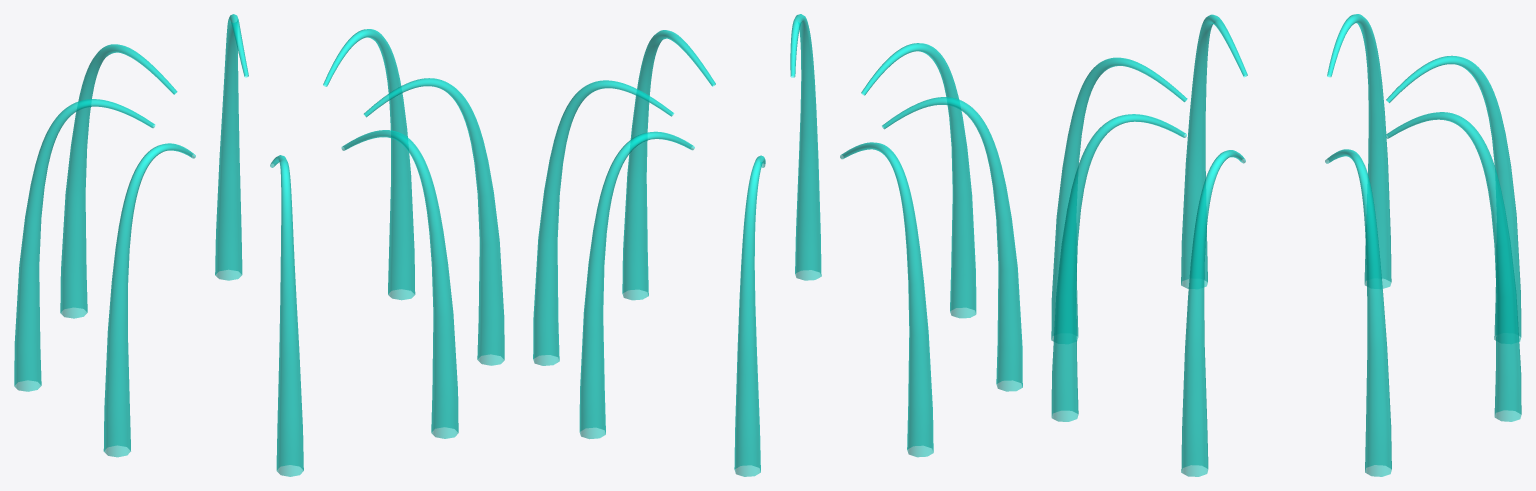
The model's file is cone_eau_fontaine_all.fbx.
3 views of the same model, side by side, from view 1: azimuth 30°, elevation 25°; view 2: azimuth 150°, elevation 25°; view 3: azimuth 270°, elevation 25° (orthographic). The views are drawn at different scales.
Parts seen in each view (by area): view 1: sweep11, sweep15, sweep9, sweep16, sweep14, sweep13, sweep10, sweep12; view 2: sweep12, sweep10, sweep16, sweep15, sweep13, sweep14, sweep9, sweep11; view 3: sweep12, sweep11, sweep10, sweep9, sweep14, sweep13, sweep15, sweep16.
Boxes of the visible parts, bbox=[...] form: sweep11: bbox=[341, 130, 458, 438]; sweep15: bbox=[14, 99, 155, 391]; sweep9: bbox=[364, 78, 504, 365]; sweep16: bbox=[103, 143, 195, 457]; sweep14: bbox=[60, 44, 177, 318]; sweep13: bbox=[270, 155, 303, 476]; sweep10: bbox=[323, 29, 415, 300]; sweep12: bbox=[215, 14, 248, 280]; sweep12: bbox=[579, 131, 694, 438]; sweep10: bbox=[533, 80, 673, 365]; sweep16: bbox=[882, 97, 1022, 391]; sweep15: bbox=[840, 142, 933, 457]; sweep13: bbox=[861, 43, 976, 318]; sweep14: bbox=[734, 155, 765, 476]; sweep9: bbox=[622, 30, 715, 300]; sweep11: bbox=[790, 14, 821, 280]; sweep12: bbox=[1385, 112, 1521, 421]; sweep11: bbox=[1051, 114, 1186, 421]; sweep10: bbox=[1325, 149, 1391, 476]; sweep9: bbox=[1181, 150, 1245, 476]; sweep14: bbox=[1386, 55, 1521, 341]; sweep13: bbox=[1051, 57, 1187, 341]; sweep15: bbox=[1327, 14, 1391, 288]; sweep16: bbox=[1181, 14, 1247, 288].
Size of the model in its own units: 954 by 654 by 954.
